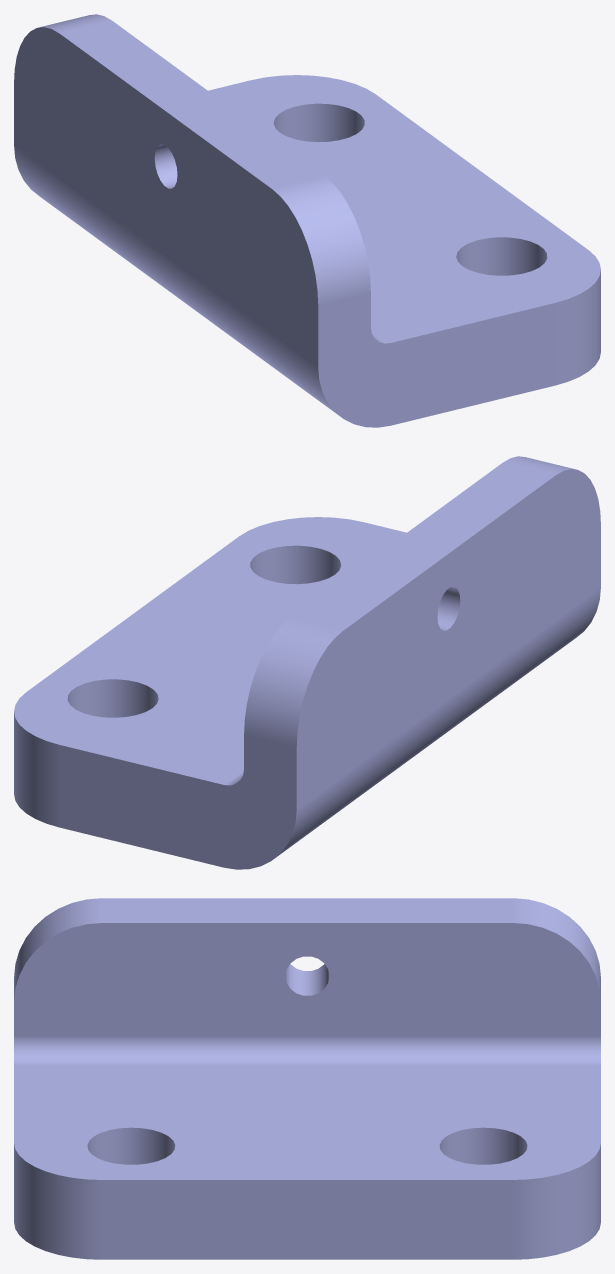
The model's file is Base Mounting bracket.gltf.
3 renders of one model, top to bottom at view 1: azimuth 30°, elevation 25°; view 2: azimuth 150°, elevation 25°; view 3: azimuth 270°, elevation 25°, orthographic. The views are drawn at different scales.
Parts seen in each view (by area): view 1: Solid1; view 2: Solid1; view 3: Solid1.
Part boxes in pixels (x1,y1,x2,y2): Solid1: [14, 14, 600, 427]; Solid1: [14, 456, 600, 869]; Solid1: [14, 898, 600, 1259].
Size of the model in its own units: 0.012 by 0.008 by 0.02.
